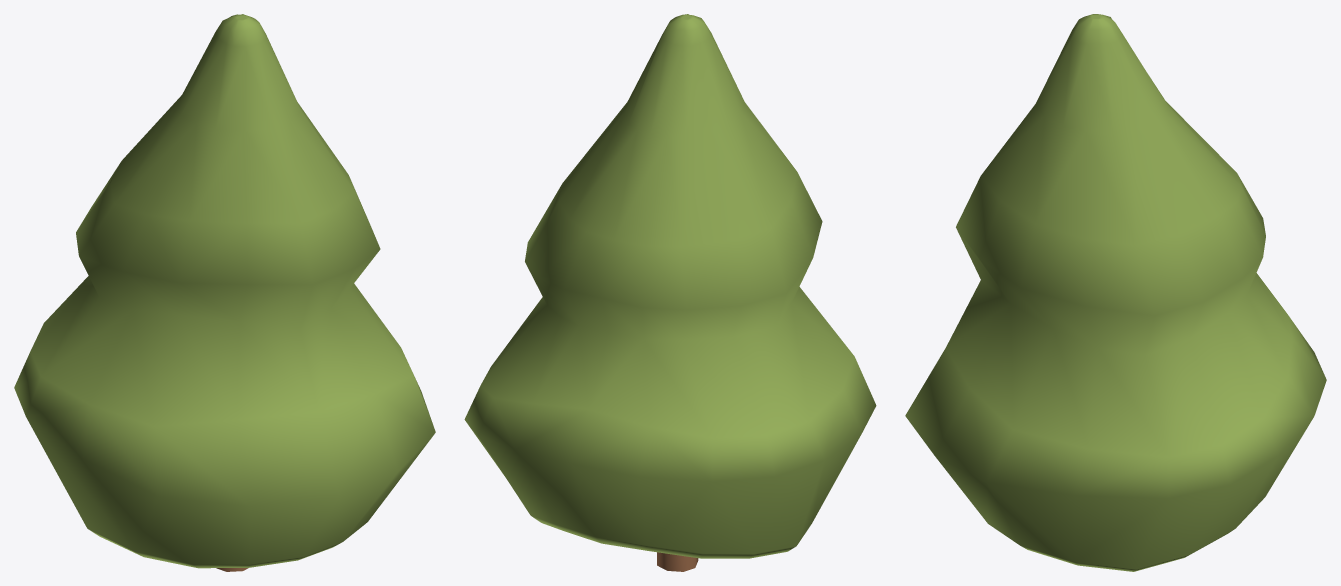
The model's file is Pine_XL.fbx.
3 views of the same model, side by side, from view 1: azimuth 30°, elevation 25°; view 2: azimuth 150°, elevation 25°; view 3: azimuth 270°, elevation 25° (orthographic). The views are drawn at different scales.
Parts seen in each view (by area): view 1: Tree_L1; view 2: Tree_L1; view 3: Tree_L1.
Boxes of the visible parts, bbox=[...] form: Tree_L1: bbox=[14, 14, 435, 571]; Tree_L1: bbox=[464, 14, 876, 571]; Tree_L1: bbox=[905, 14, 1326, 571].
Bounding box in the file's own units: 106 × 157 × 111.
